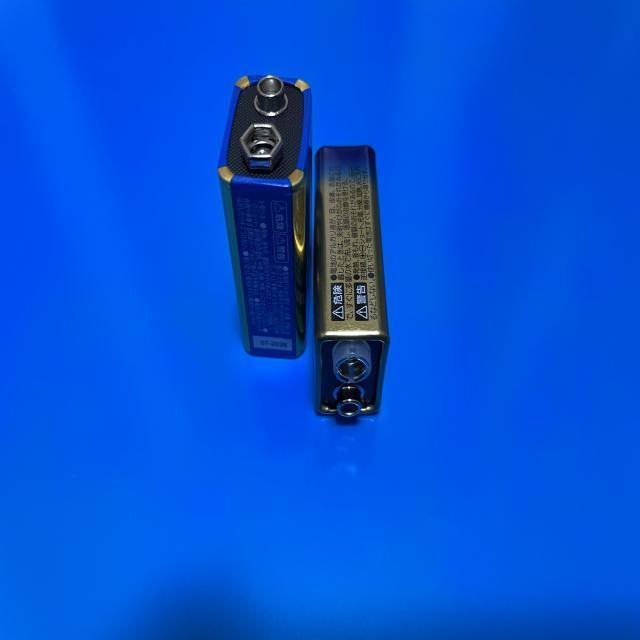9V: (217, 73, 313, 358), (314, 146, 390, 425)
